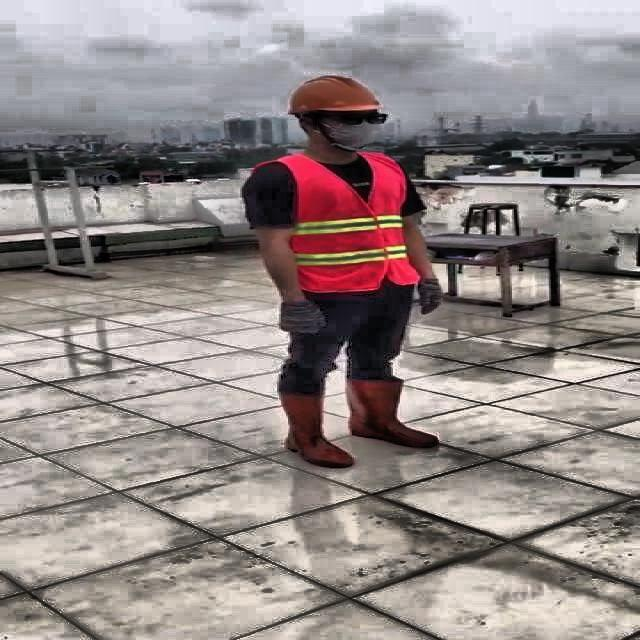safety_helmet: (284, 70, 382, 116)
safety_jacket: (254, 149, 422, 293)
